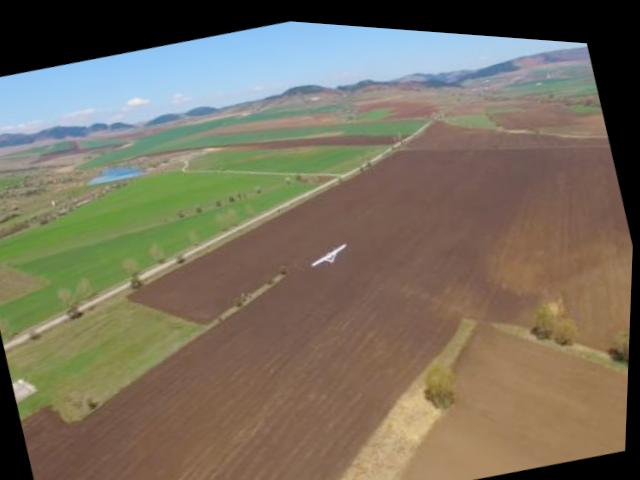uav: (302, 224, 357, 271)
